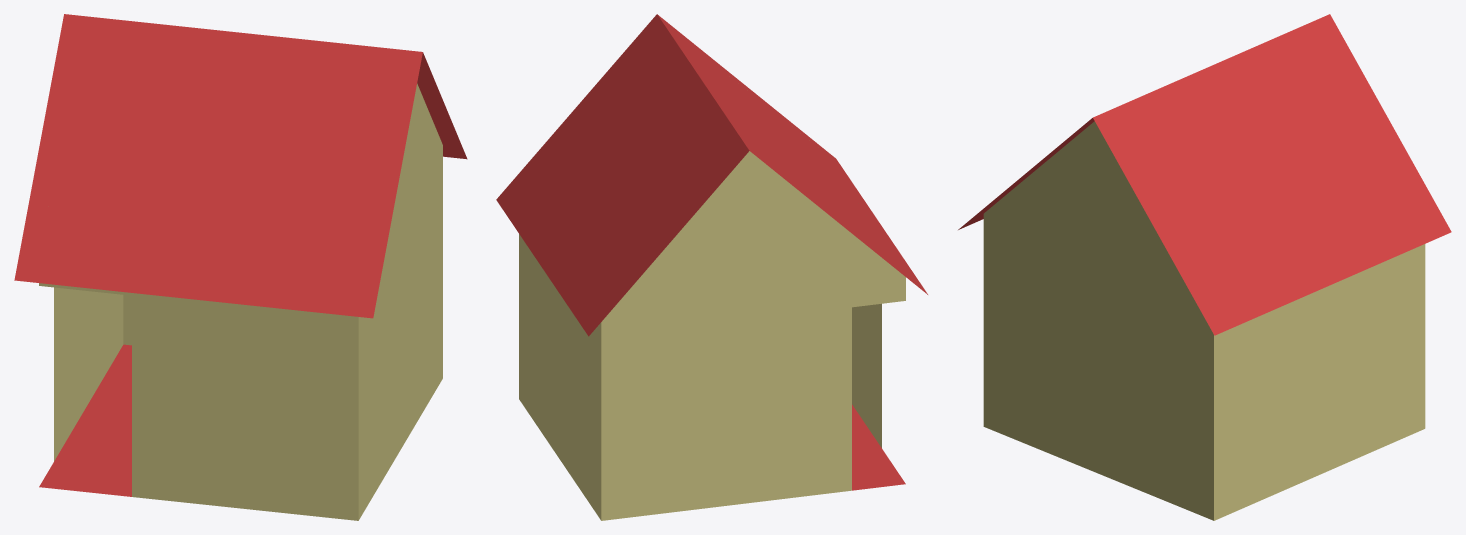
3 views of the same model, side by side, from view 1: azimuth 30°, elevation 25°; view 2: azimuth 150°, elevation 25°; view 3: azimuth 270°, elevation 25° (orthographic). The views are drawn at different scales.
Size of the model in its own units: 13.24 by 13.25 by 10.78.
